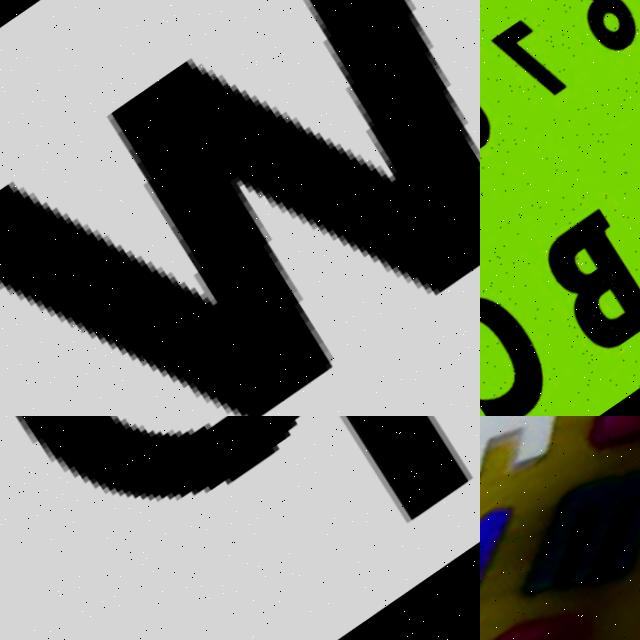6: (540, 0, 640, 81)
7: (481, 7, 591, 127)
8: (480, 54, 522, 176)
G: (553, 416, 640, 481)
H: (480, 416, 614, 518)
M: (493, 446, 640, 638)
N: (480, 491, 539, 640)
W: (0, 0, 480, 416)
